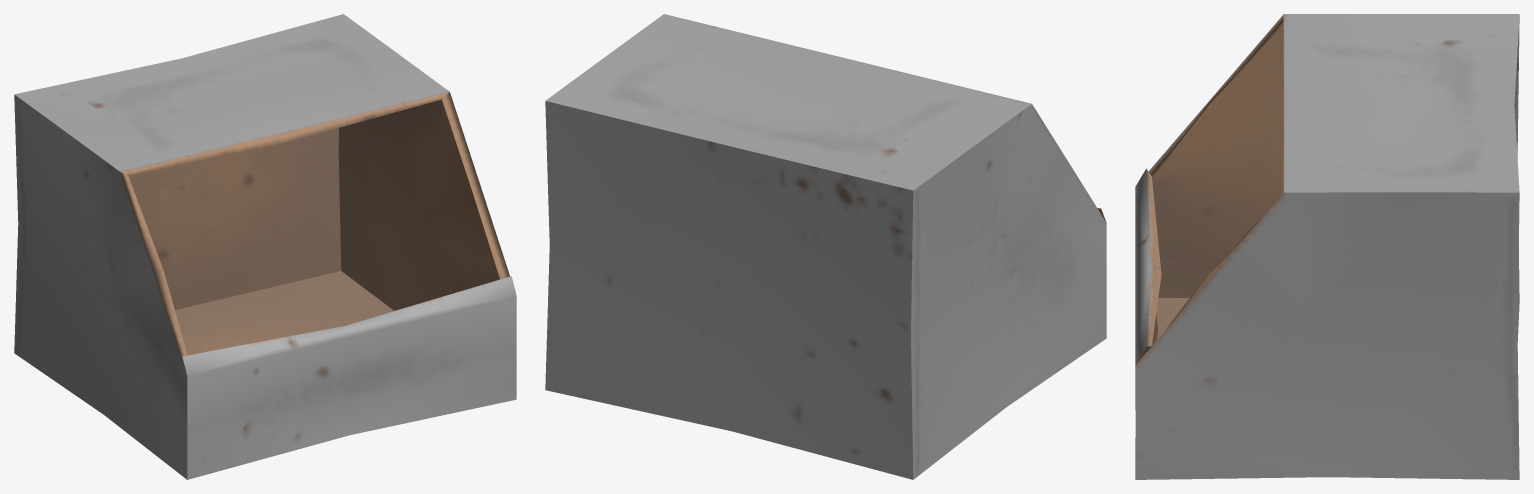
The model's file is SM_CartonDrawer_03.FBX.
3 views of the same model, side by side, from view 1: azimuth 30°, elevation 25°; view 2: azimuth 150°, elevation 25°; view 3: azimuth 270°, elevation 25° (orthographic). The views are drawn at different scales.
Parts seen in each view (by area): view 1: SM_CartonDrawer_03; view 2: SM_CartonDrawer_03; view 3: SM_CartonDrawer_03.
Part boxes in pixels (x1,y1,x2,y2): SM_CartonDrawer_03: (14, 14, 516, 479); SM_CartonDrawer_03: (545, 14, 1106, 479); SM_CartonDrawer_03: (1135, 14, 1519, 479).
Bounding box in the file's own units: 25.29 × 23.02 × 19.01.
